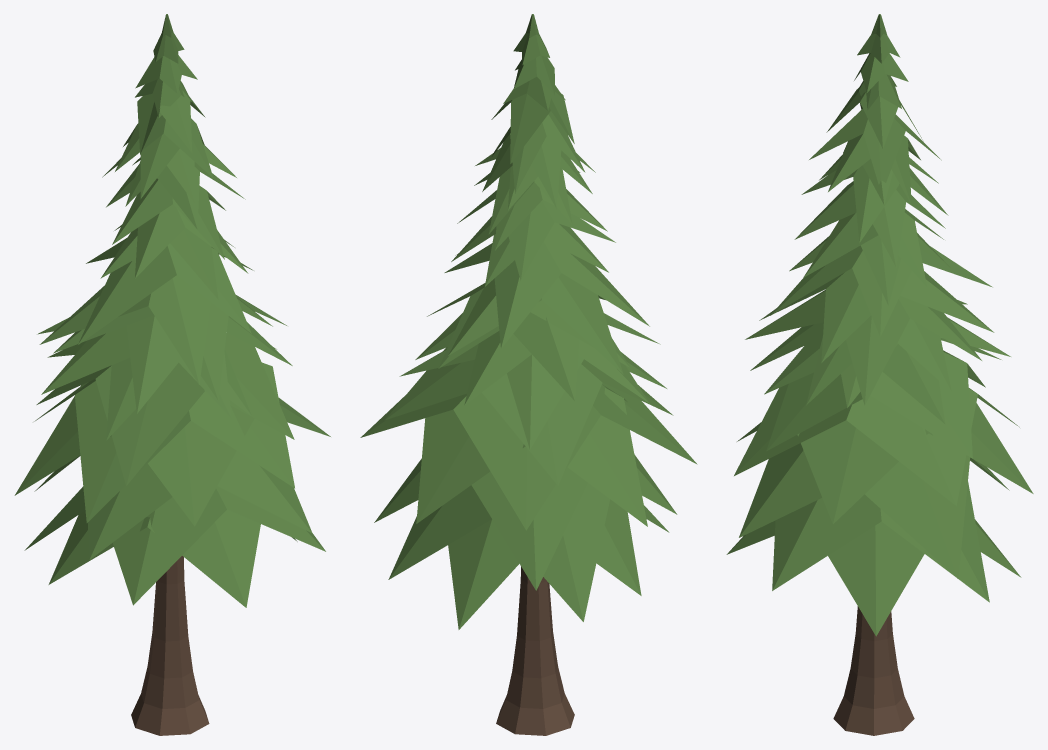
The model's file is tree8a.glb.
3 views of the same model, side by side, from view 1: azimuth 30°, elevation 25°; view 2: azimuth 150°, elevation 25°; view 3: azimuth 270°, elevation 25° (orthographic).
Parts seen in each view (by area): view 1: tree_0082; view 2: tree_0082; view 3: tree_0082.
Part boxes in pixels (bbox=[...]): tree_0082: bbox=[14, 14, 330, 735]; tree_0082: bbox=[360, 14, 697, 735]; tree_0082: bbox=[726, 14, 1033, 735].
Size of the model in its own units: 1.27 by 3.11 by 1.23.
